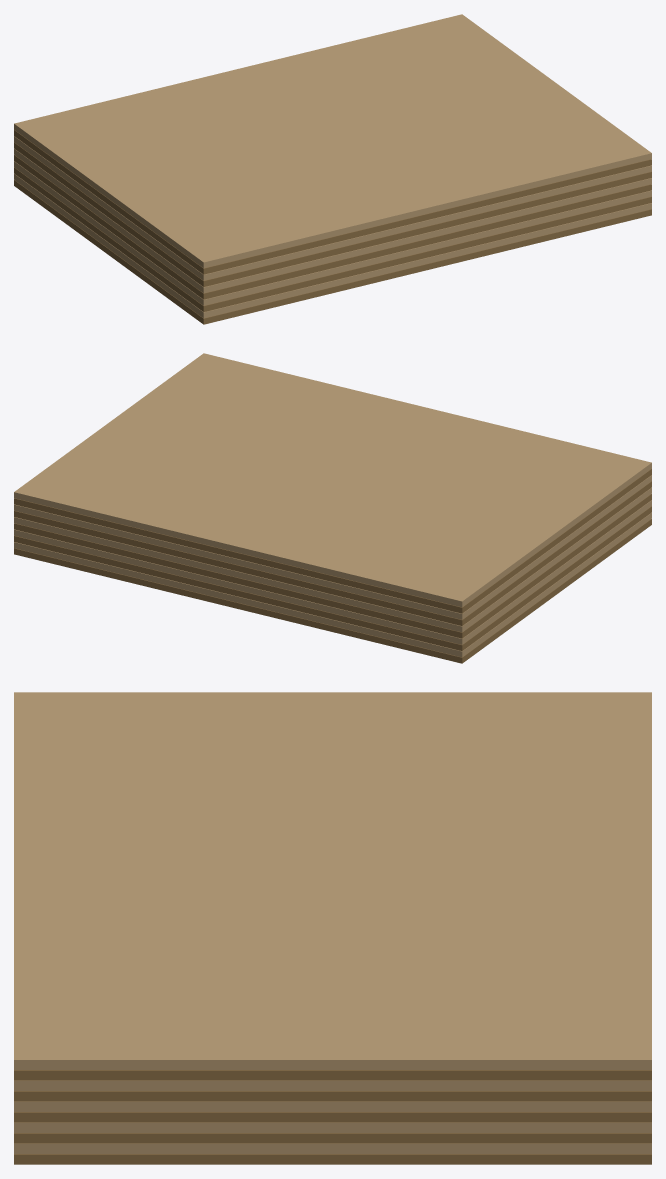
File: paper.glb
3 views of the same model, one above another, from view 1: azimuth 30°, elevation 25°; view 2: azimuth 150°, elevation 25°; view 3: azimuth 270°, elevation 25° (orthographic). The views are drawn at different scales.
Parts seen in each view (by area): view 1: CorrugatedBoard_9, CorrugatedBoard_5, CorrugatedBoard_0, CorrugatedBoard_3, CorrugatedBoard_7, CorrugatedBoard_6, CorrugatedBoard_8, CorrugatedBoard_1, CorrugatedBoard_2, CorrugatedBoard_4; view 2: CorrugatedBoard_9, CorrugatedBoard_5, CorrugatedBoard_0, CorrugatedBoard_3, CorrugatedBoard_7, CorrugatedBoard_6, CorrugatedBoard_8, CorrugatedBoard_1, CorrugatedBoard_2, CorrugatedBoard_4; view 3: CorrugatedBoard_9, CorrugatedBoard_0, CorrugatedBoard_1, CorrugatedBoard_2, CorrugatedBoard_3, CorrugatedBoard_4, CorrugatedBoard_5, CorrugatedBoard_6, CorrugatedBoard_7, CorrugatedBoard_8.
Part boxes in pixels (left/top/right/bottom): CorrugatedBoard_9: left=14, top=14, right=651, bottom=268; CorrugatedBoard_5: left=14, top=148, right=651, bottom=293; CorrugatedBoard_0: left=14, top=180, right=651, bottom=324; CorrugatedBoard_3: left=14, top=161, right=651, bottom=305; CorrugatedBoard_7: left=14, top=136, right=651, bottom=280; CorrugatedBoard_6: left=14, top=142, right=651, bottom=286; CorrugatedBoard_8: left=14, top=130, right=651, bottom=274; CorrugatedBoard_1: left=14, top=173, right=651, bottom=318; CorrugatedBoard_2: left=14, top=167, right=651, bottom=311; CorrugatedBoard_4: left=14, top=155, right=651, bottom=299; CorrugatedBoard_9: left=14, top=353, right=651, bottom=607; CorrugatedBoard_5: left=14, top=487, right=651, bottom=632; CorrugatedBoard_0: left=14, top=519, right=651, bottom=663; CorrugatedBoard_3: left=14, top=500, right=651, bottom=644; CorrugatedBoard_7: left=14, top=475, right=651, bottom=619; CorrugatedBoard_6: left=14, top=481, right=651, bottom=625; CorrugatedBoard_8: left=14, top=469, right=651, bottom=613; CorrugatedBoard_1: left=14, top=512, right=651, bottom=657; CorrugatedBoard_2: left=14, top=506, right=651, bottom=650; CorrugatedBoard_4: left=14, top=494, right=651, bottom=638; CorrugatedBoard_9: left=14, top=692, right=651, bottom=1069; CorrugatedBoard_0: left=14, top=1154, right=651, bottom=1164; CorrugatedBoard_1: left=14, top=1143, right=651, bottom=1153; CorrugatedBoard_2: left=14, top=1133, right=651, bottom=1143; CorrugatedBoard_3: left=14, top=1122, right=651, bottom=1132; CorrugatedBoard_4: left=14, top=1112, right=651, bottom=1122; CorrugatedBoard_5: left=14, top=1101, right=651, bottom=1111; CorrugatedBoard_6: left=14, top=1091, right=651, bottom=1101; CorrugatedBoard_7: left=14, top=1080, right=651, bottom=1090; CorrugatedBoard_8: left=14, top=1070, right=651, bottom=1080.
Bounding box in the file's own units: 0.3 × 0.0398 × 0.22.
